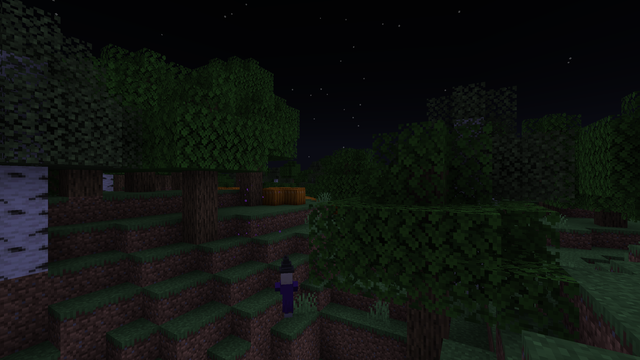sorcieres: (276, 265, 296, 321)
